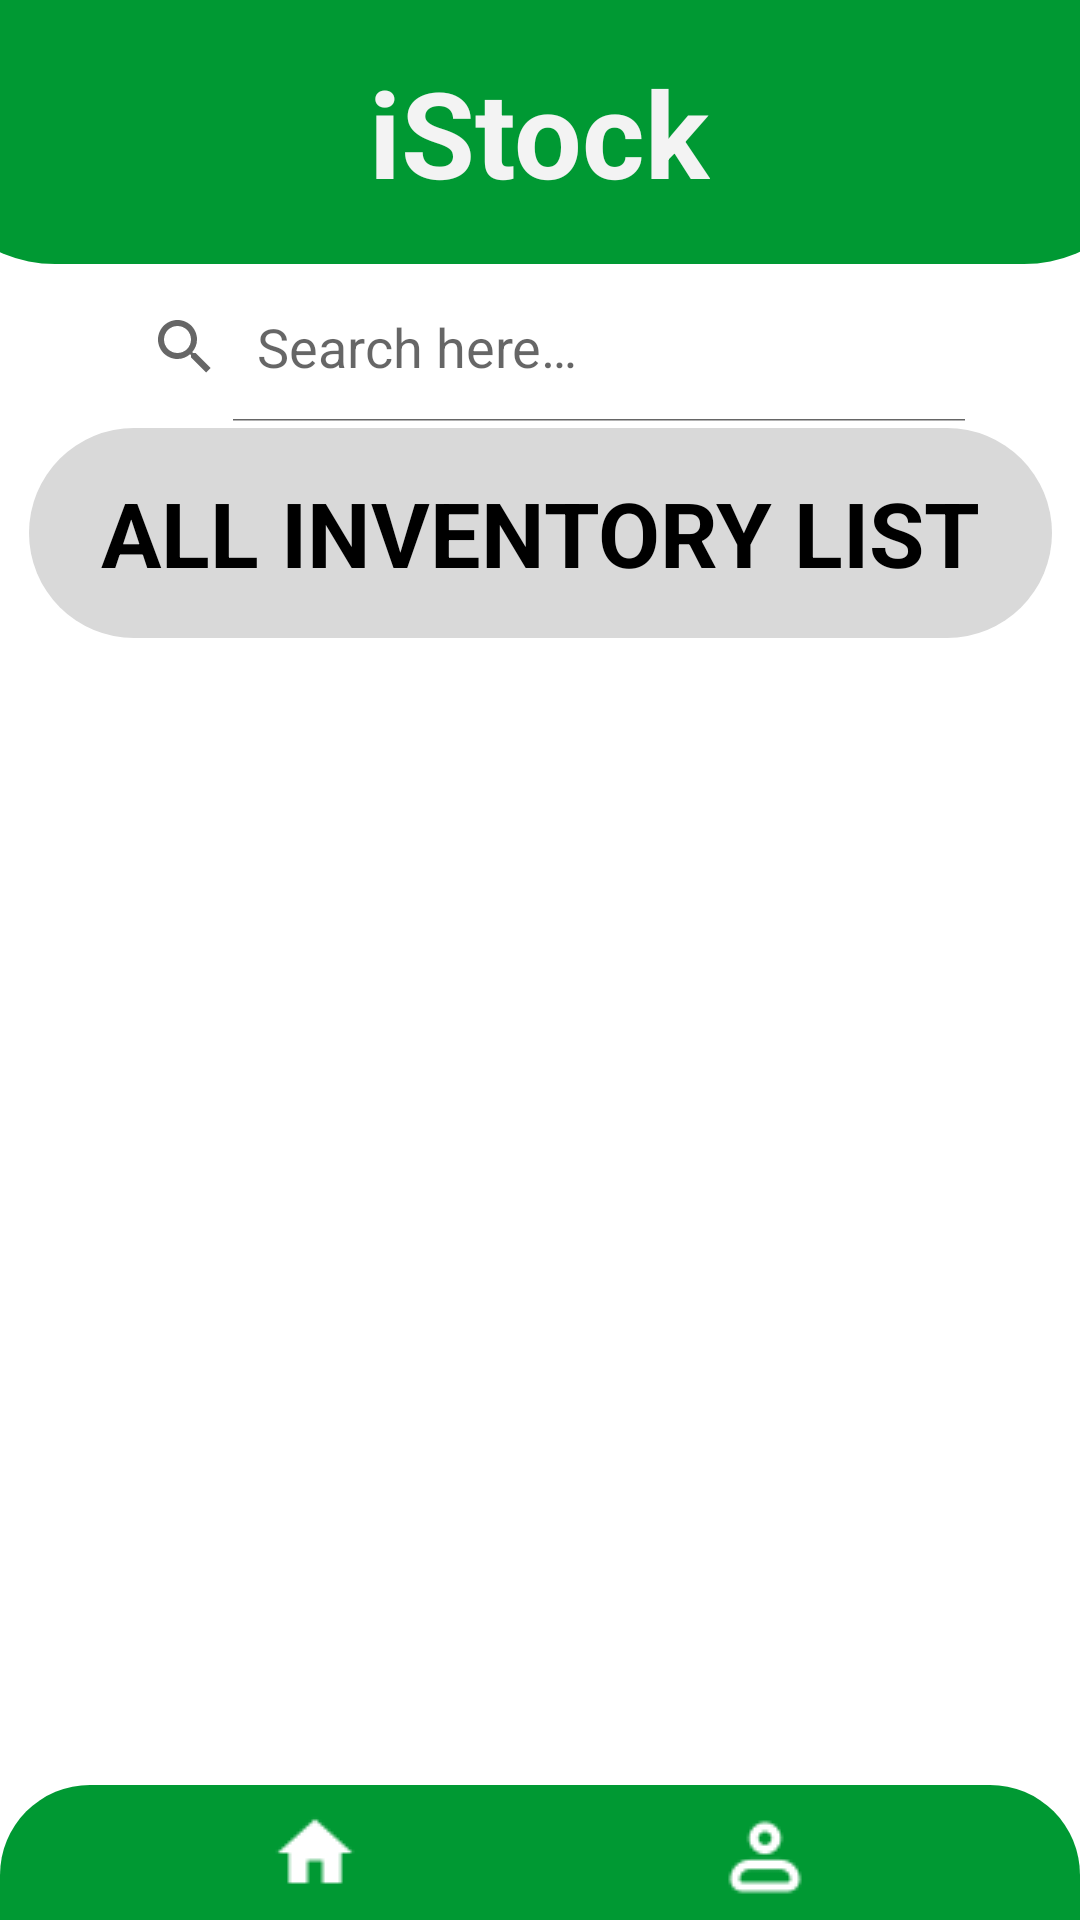

Icon click points for this 1080px×1920px phone screenshot, format (x=x, y=y):
home: (x=315, y=1851)
profile: (x=765, y=1857)
